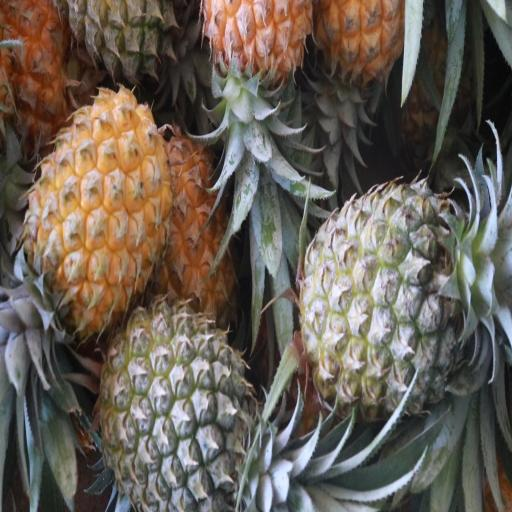------------------------------: (68, 0, 179, 89)
Pineapple - v8 v1: (22, 93, 169, 338), (160, 130, 244, 326)
